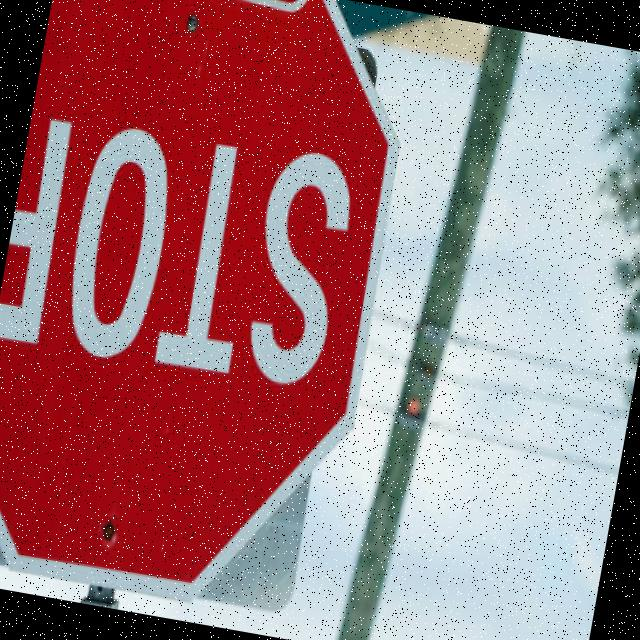stop: (0, 0, 433, 637)
